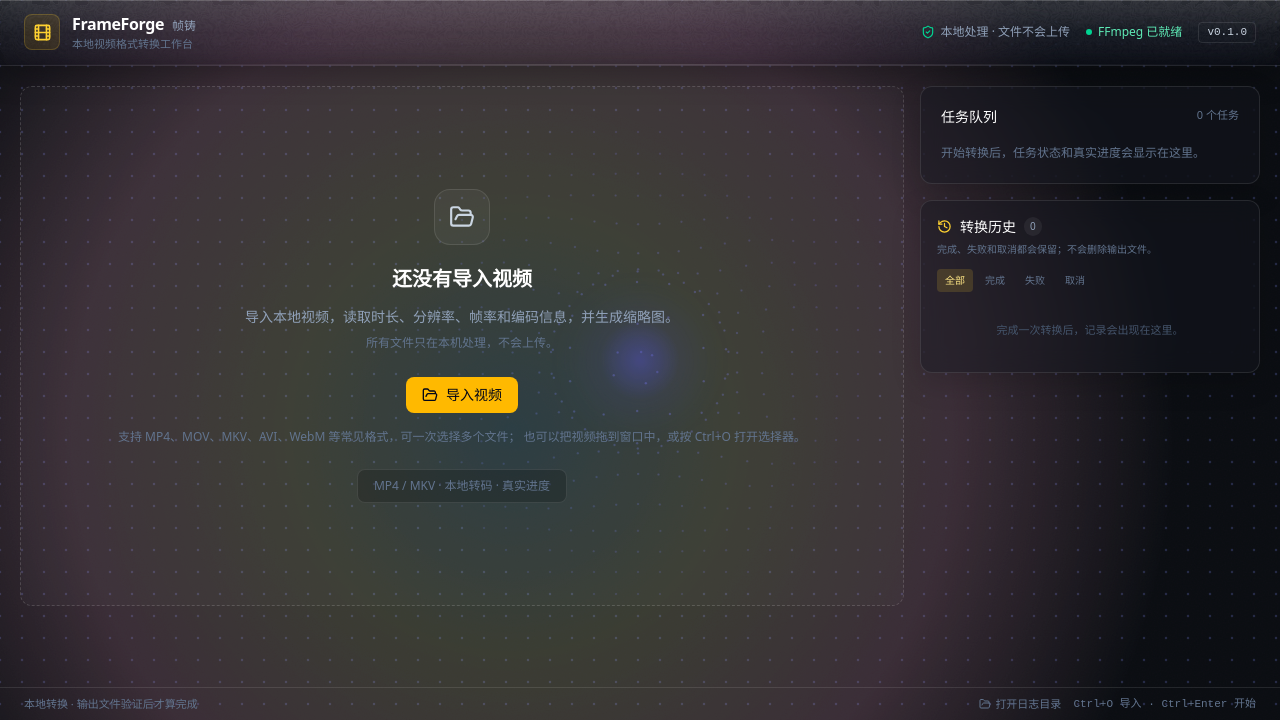
Test case: 阶段 4 / 体验 UI › 可以从工作区逐项移除视频，移除最后一项后回到空状态
The image size is (1280, 720).
expect the text "FFmpeg 已就绪" is shown: met, box [1086, 24, 1182, 40]
What coordinates should you click on to do the following:
click the button "导入视频"
I would click on:
 (462, 394)
Its box is [406, 376, 518, 412].
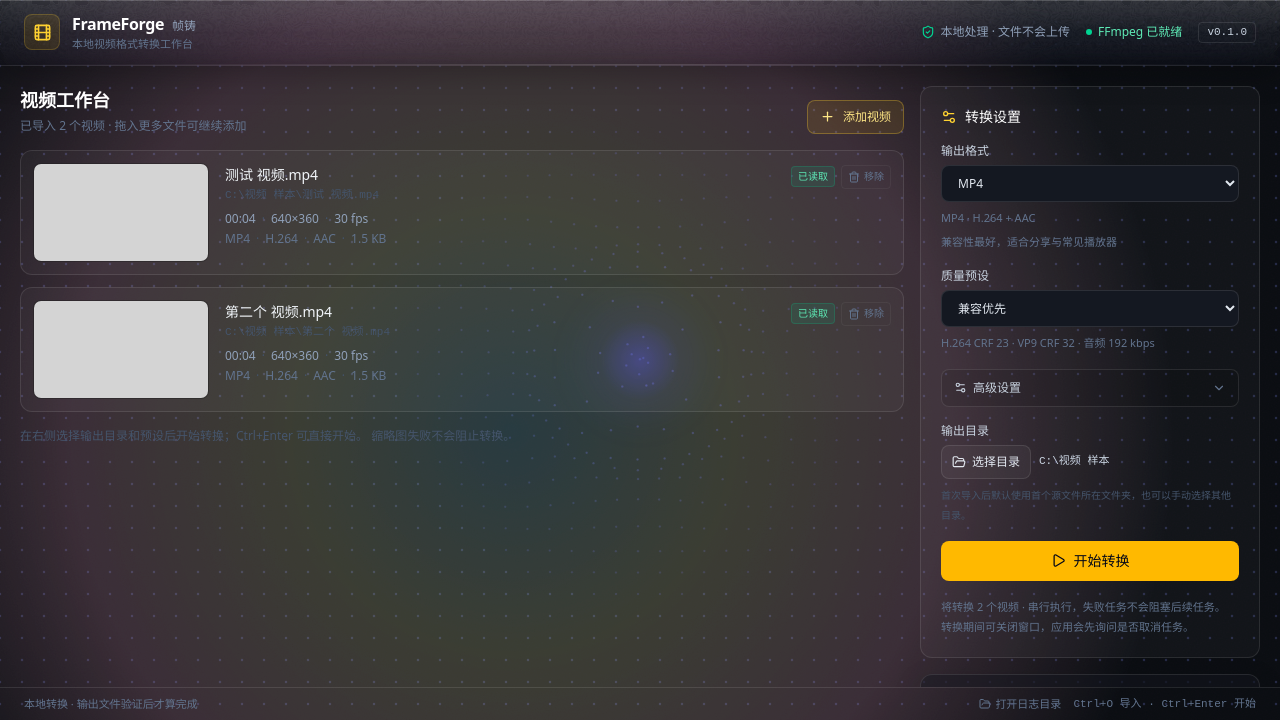
expect the heading "测试 视频.mp4" is shown: met, box [225, 164, 318, 184]
expect the heading "第二个 视频.mp4" is shown: met, box [225, 302, 332, 320]
expect the text "已导入 2 个视频 · 拖入更多文件可继续添加" is shown: met, box [20, 118, 247, 134]
What coordinates should you click on to do the following:
click the button with aria-label "从工作区移除 测试 视频.mp4"
I would click on:
 (866, 176)
Its box is [841, 164, 891, 188].
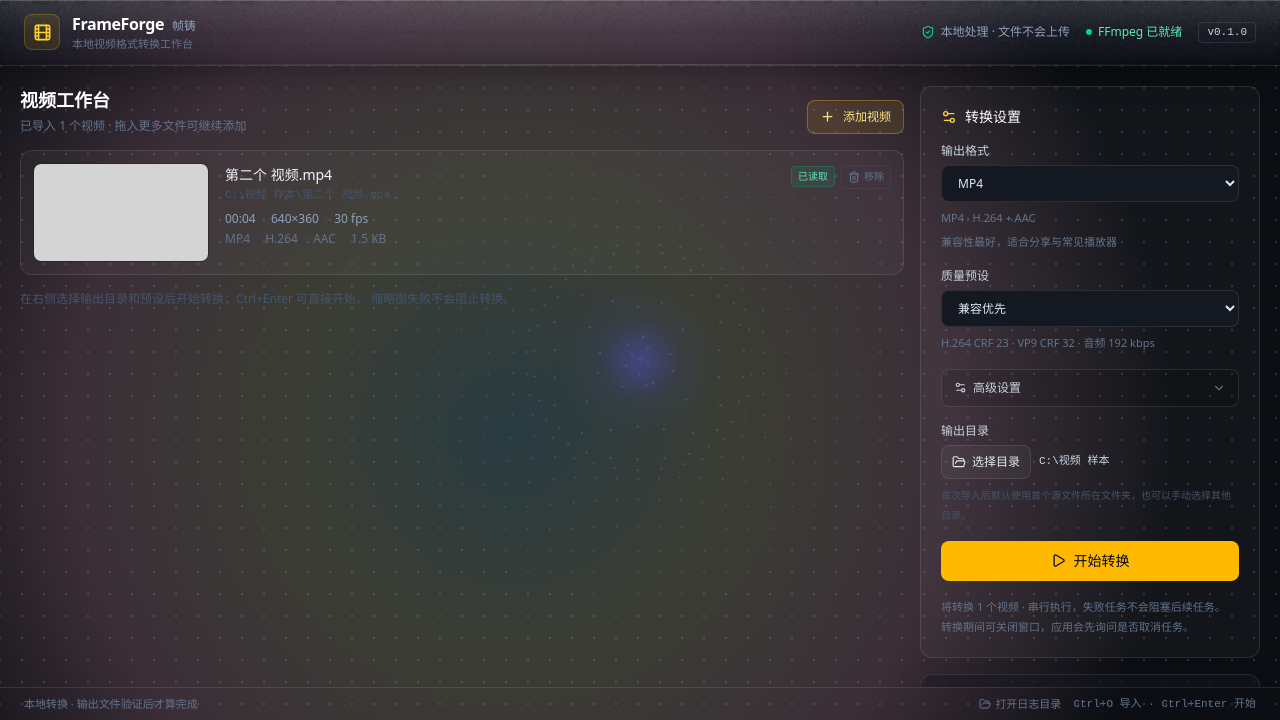
expect the heading "第二个 视频.mp4" is shown: met, box [225, 164, 332, 184]
expect the heading "测试 视频.mp4" is gone: met
expect the text "已导入 1 个视频 · 拖入更多文件可继续添加" is shown: met, box [20, 118, 247, 134]
What coordinates should you click on to do the following:
click the button with aria-label "从工作区移除 第二个 视频.mp4"
I would click on:
 (866, 176)
Its box is [841, 164, 891, 188].
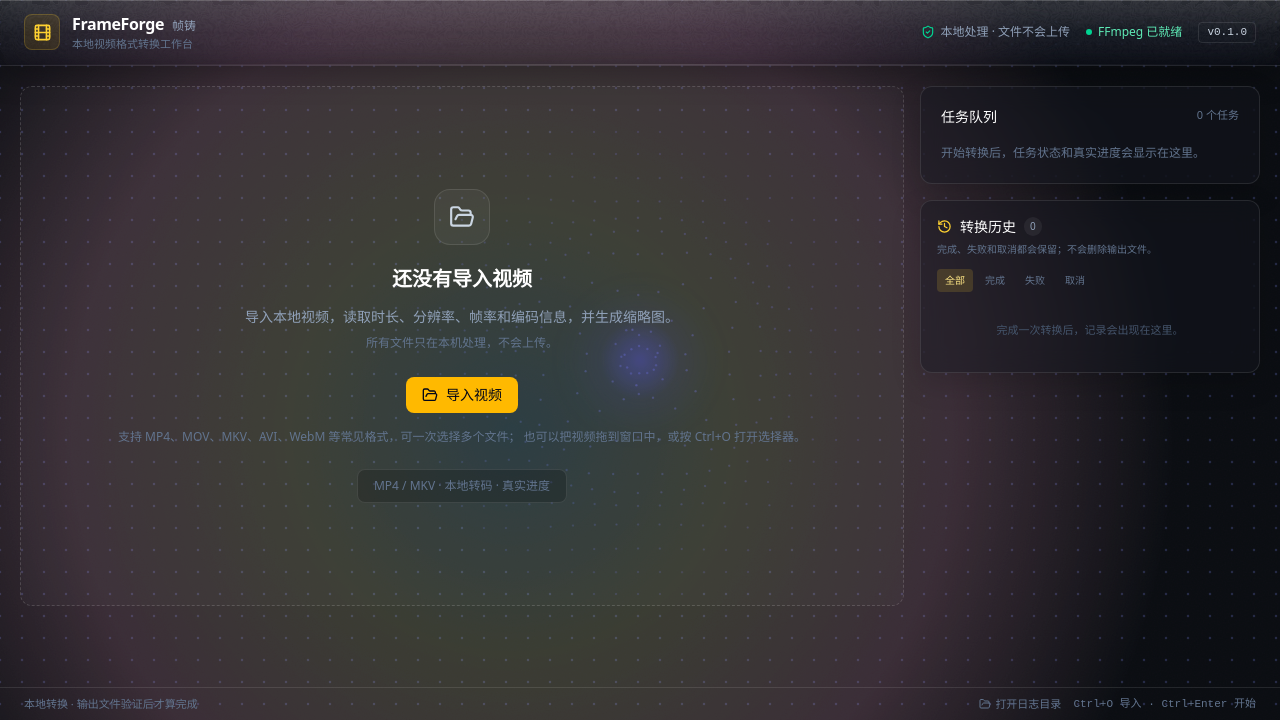
expect the heading "还没有导入视频" is shown: met, box [392, 264, 532, 292]
